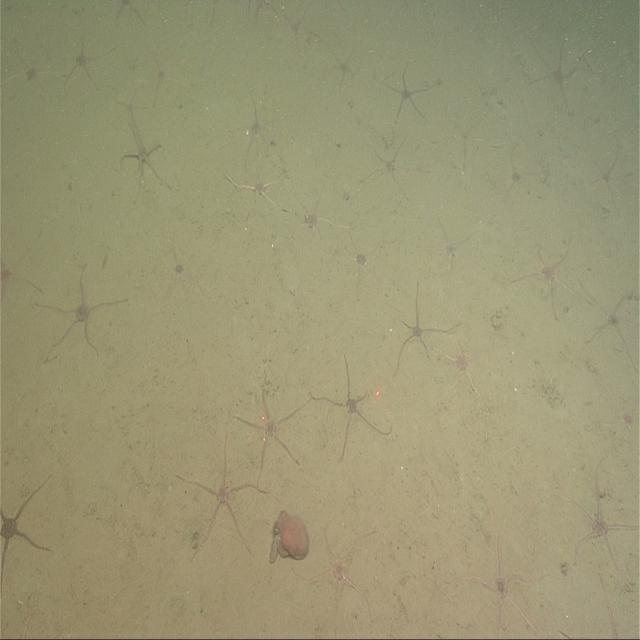Brittle Star: (172, 423, 266, 565), (36, 256, 132, 367), (306, 342, 394, 459), (452, 522, 538, 640), (234, 364, 314, 486), (565, 453, 637, 573), (304, 521, 380, 633), (511, 230, 593, 325), (392, 277, 463, 383), (0, 465, 54, 586), (578, 275, 638, 375), (360, 131, 434, 209), (54, 13, 118, 98), (228, 88, 289, 175), (117, 109, 174, 200), (529, 30, 585, 121), (380, 50, 443, 128), (131, 37, 189, 108), (222, 158, 290, 218), (293, 177, 353, 245), (429, 211, 482, 284), (5, 42, 56, 113), (583, 144, 633, 213), (441, 331, 486, 404), (496, 144, 546, 208), (346, 227, 386, 303), (322, 34, 366, 96)
